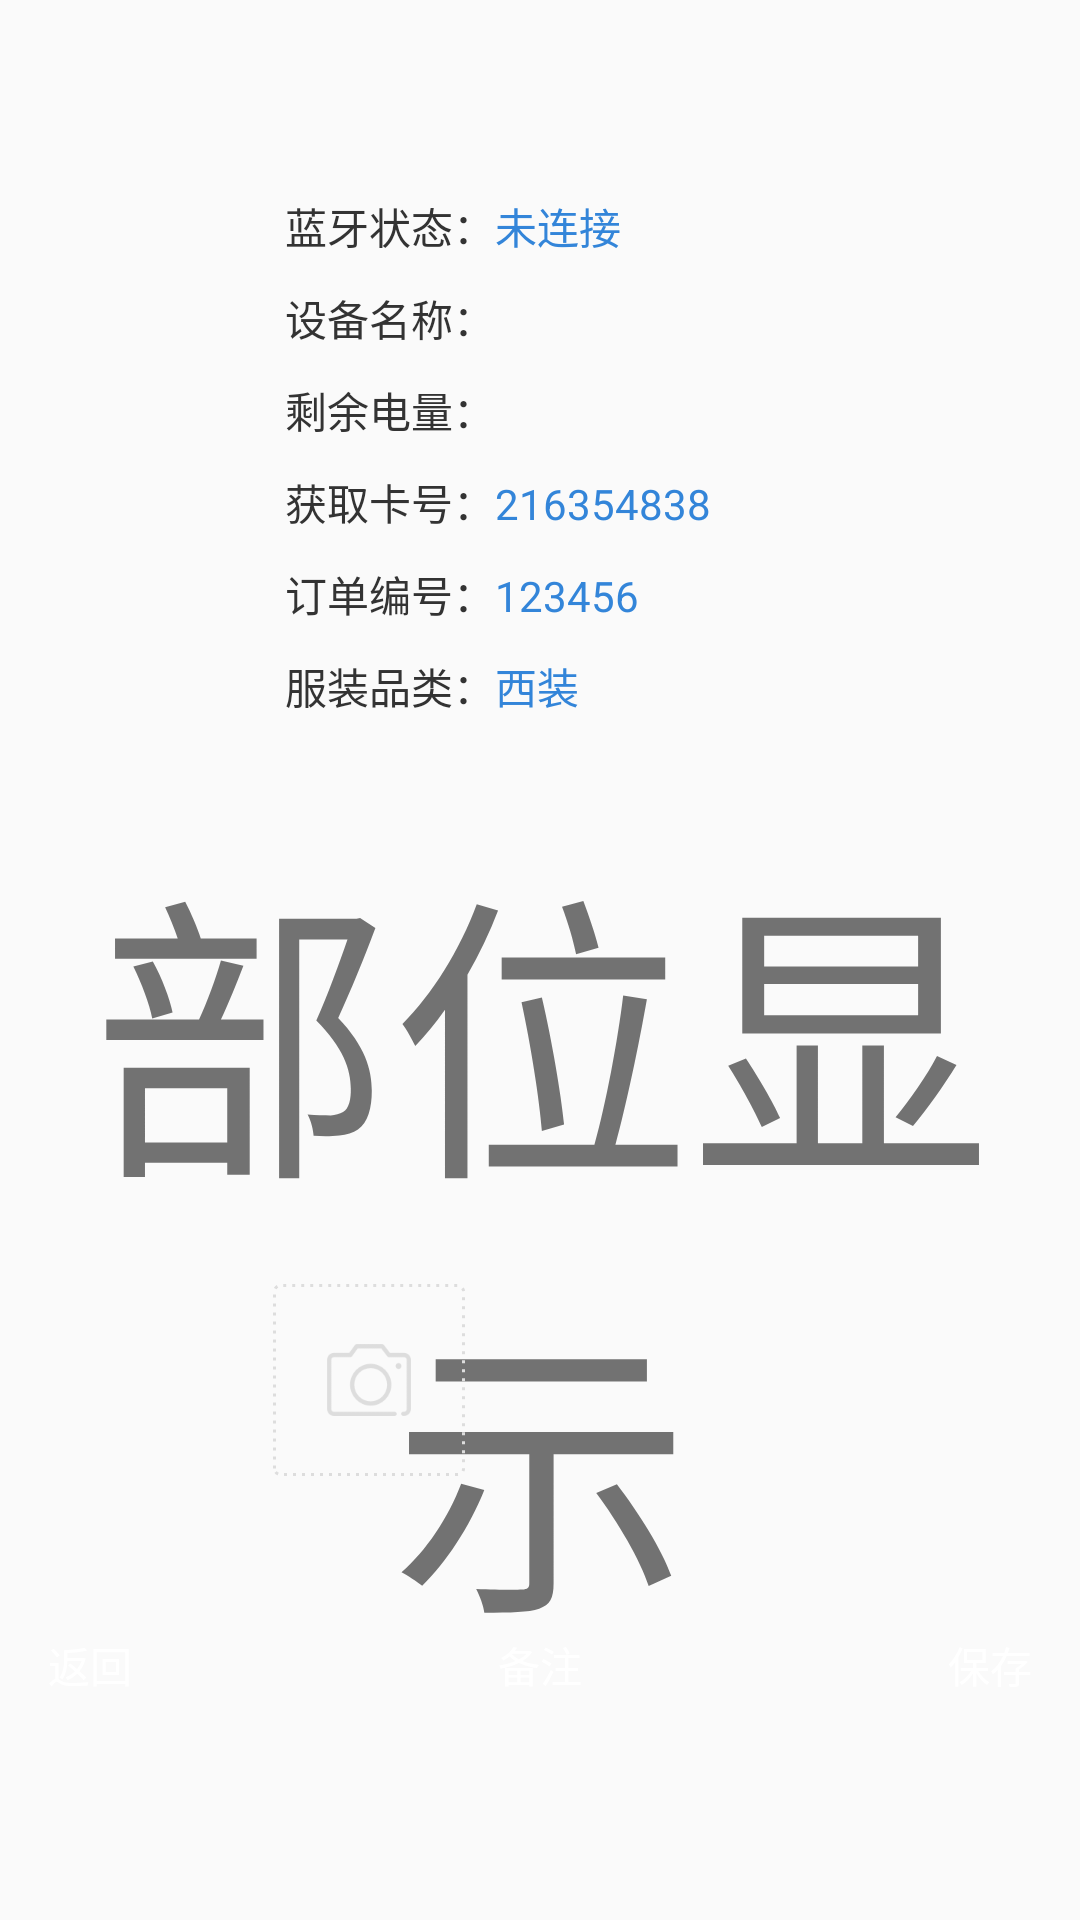

Locate icon controls on the screen. Image size 1080 x 1920, boxes as {"x1": x1, "y1": y1, "x2": x2, "y2": y2}.
camera: {"x1": 327, "y1": 1344, "x2": 411, "y2": 1416}
